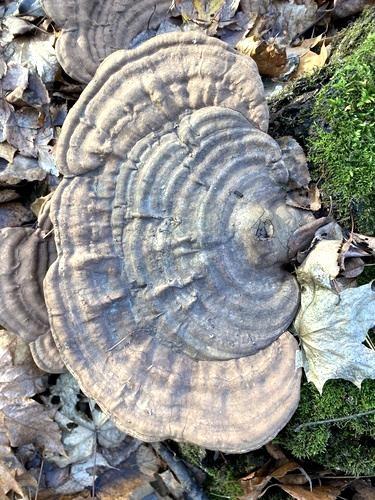Ganoderma - Fruit Body: (48, 29, 304, 451)
